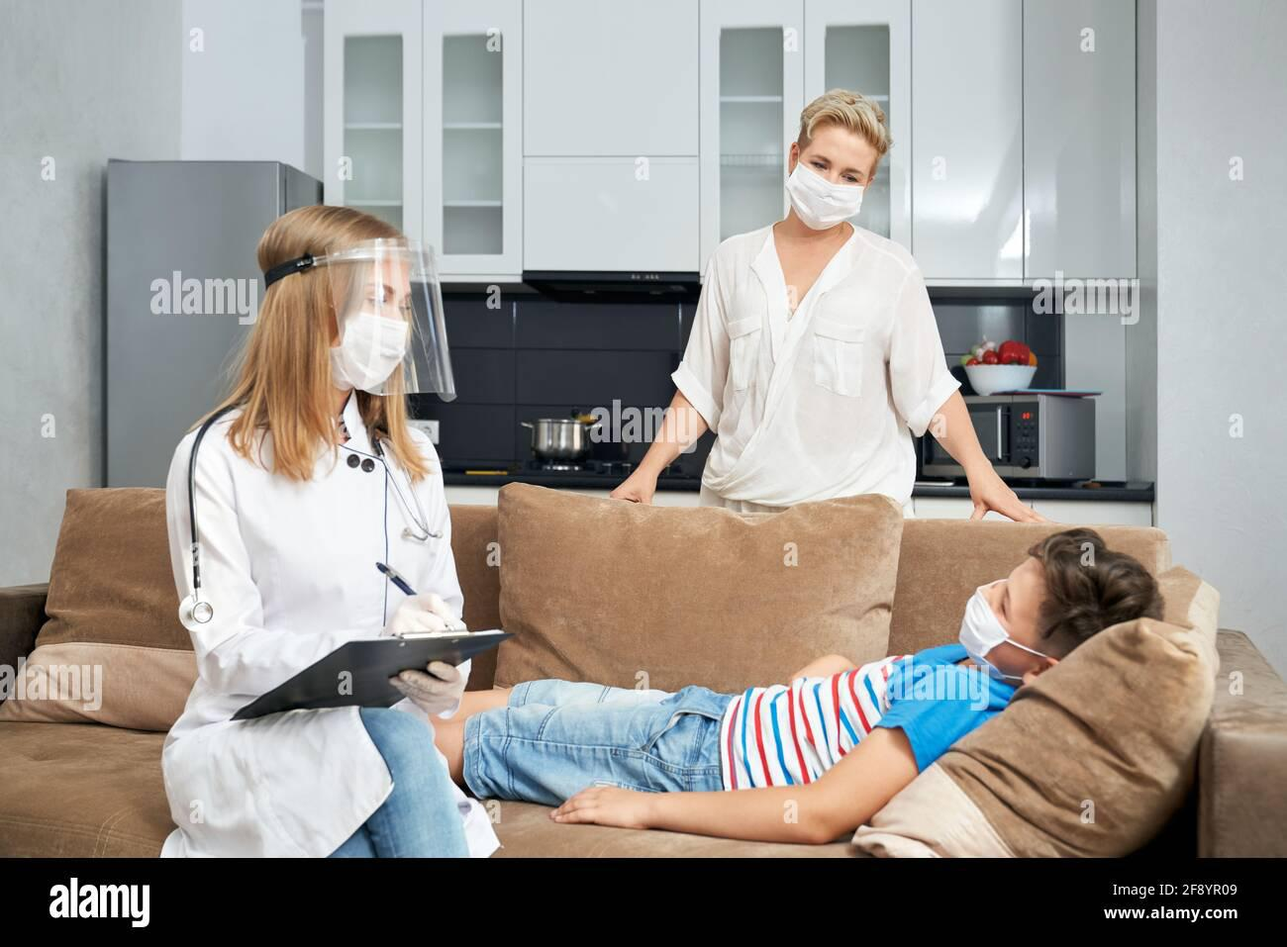OK: (959, 565, 1063, 677), (336, 276, 415, 397), (789, 149, 870, 243)
